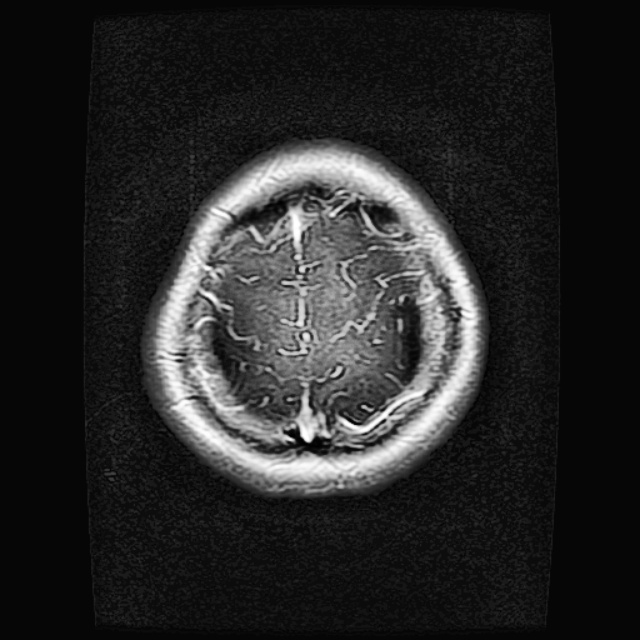Glioma: (393, 294, 419, 379)
